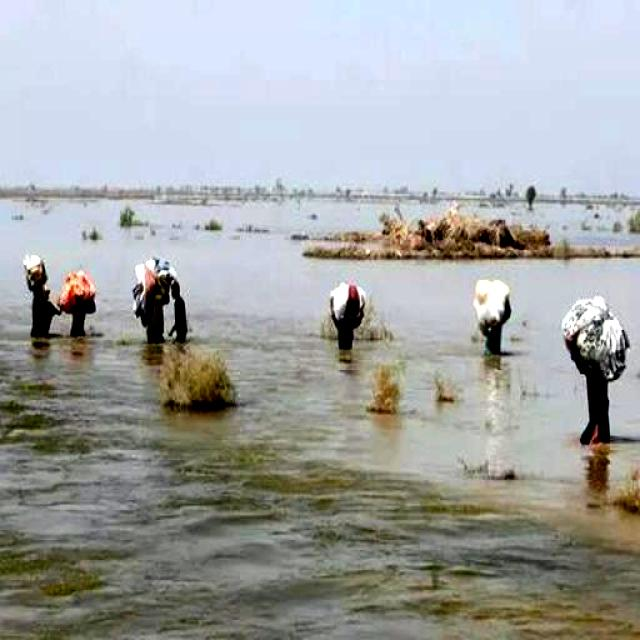civilian: (558, 329, 629, 477), (22, 269, 65, 354), (473, 304, 516, 384), (160, 264, 196, 351), (327, 290, 367, 366), (135, 285, 172, 349), (63, 291, 97, 352)
